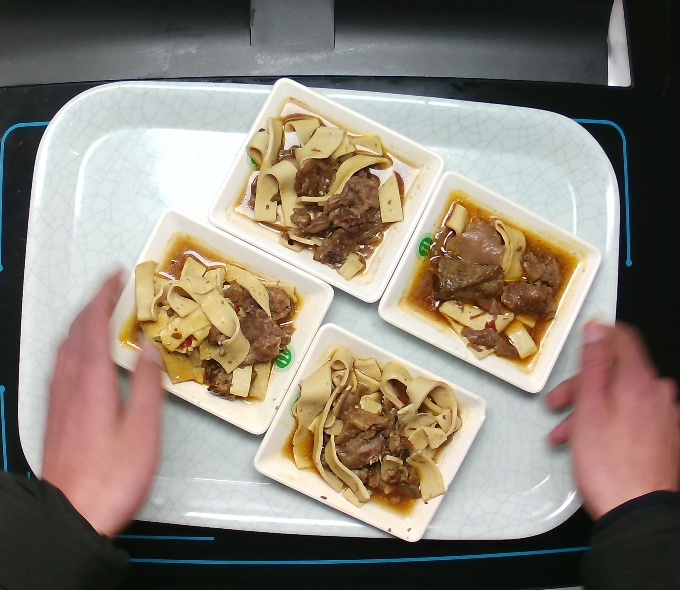wcq-QianZhangNiuNan: (231, 92, 424, 287), (400, 185, 593, 380), (120, 224, 313, 419), (272, 337, 465, 532)
